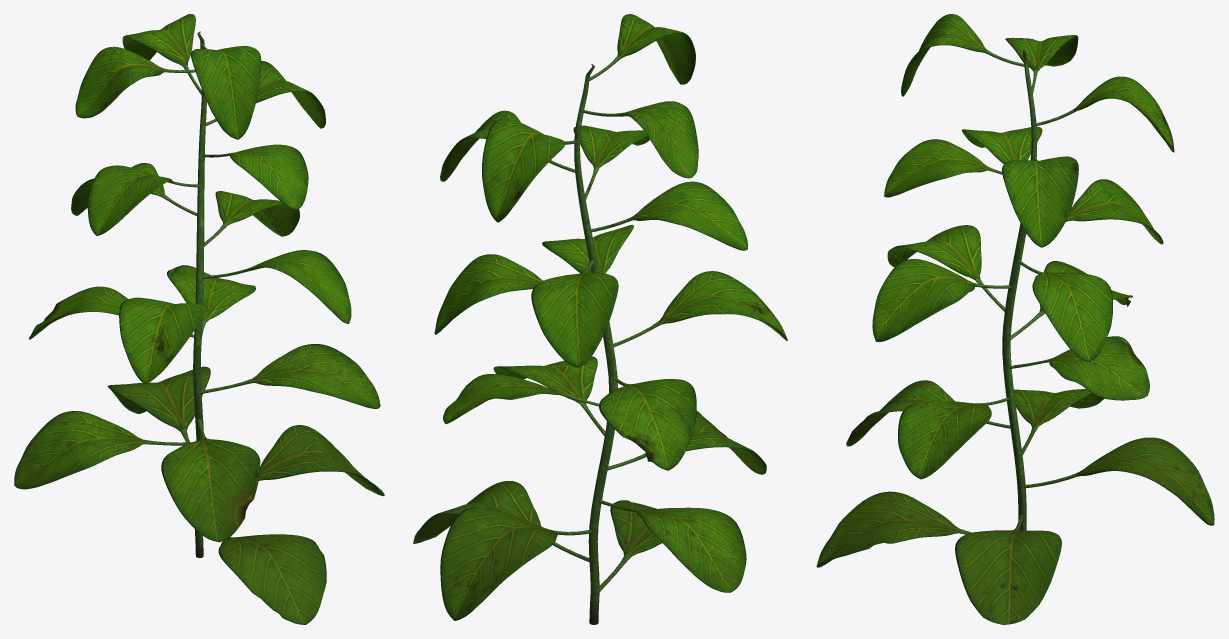
File: plant_pro.dae
The picture shows the model from 3 angles, left to right: view 1: azimuth 30°, elevation 25°; view 2: azimuth 150°, elevation 25°; view 3: azimuth 270°, elevation 25°; orthographic projection. The views are drawn at different scales.
Parts seen in each view (by area): view 1: stem; view 2: stem; view 3: stem.
Boxes of the visible parts, left/top/right/bottom form: stem: left=14, top=14, right=384, bottom=624; stem: left=413, top=14, right=787, bottom=624; stem: left=816, top=14, right=1214, bottom=624.
Size of the model in its own units: 0.1538 by 0.1608 by 0.2397.
Materials: 1 (1 with a texture image).
